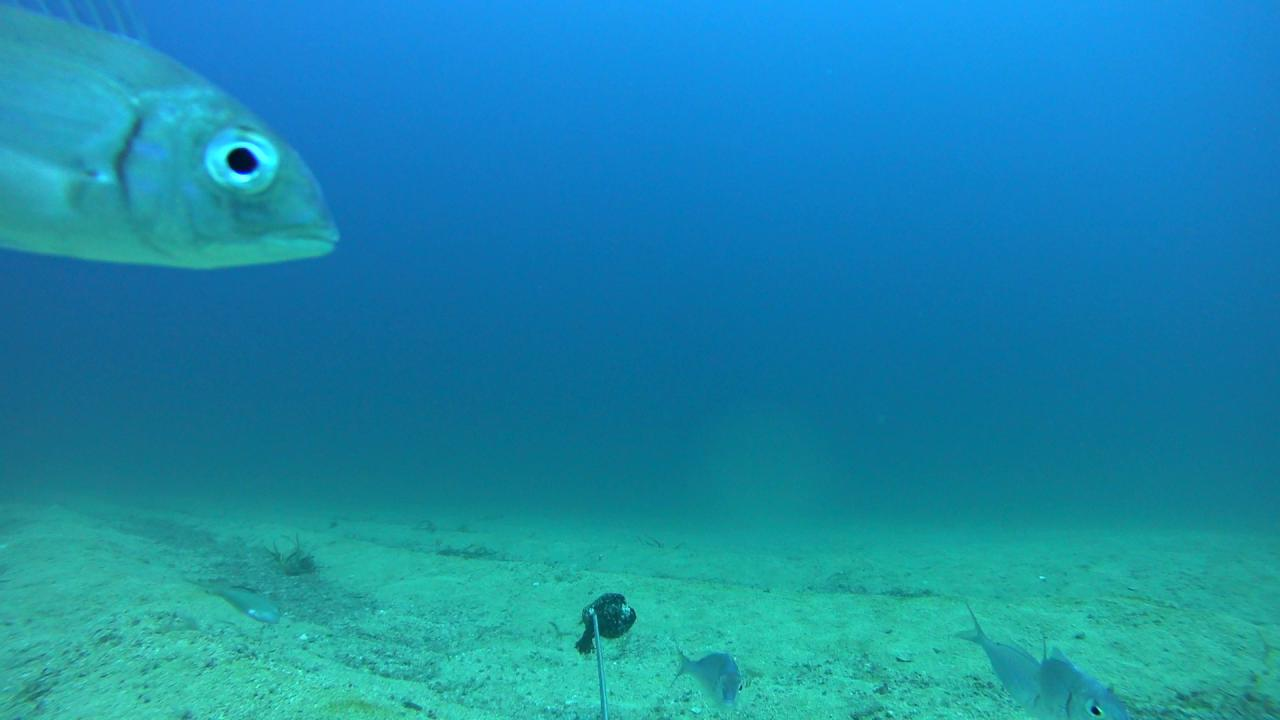pagellus: (671, 630, 742, 711)
